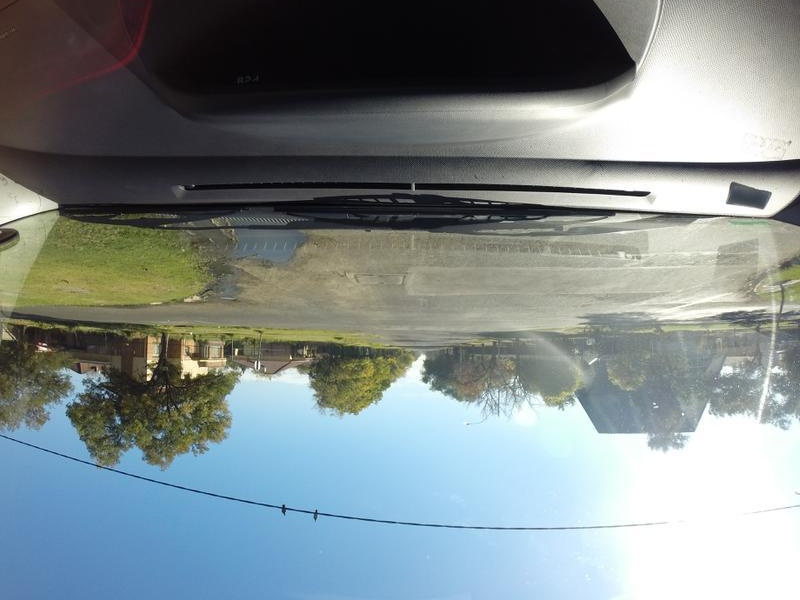pothole: (228, 219, 307, 272)
